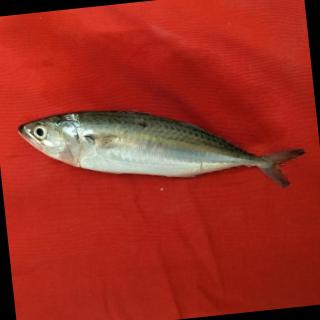Ikan: (7, 59, 320, 234)
